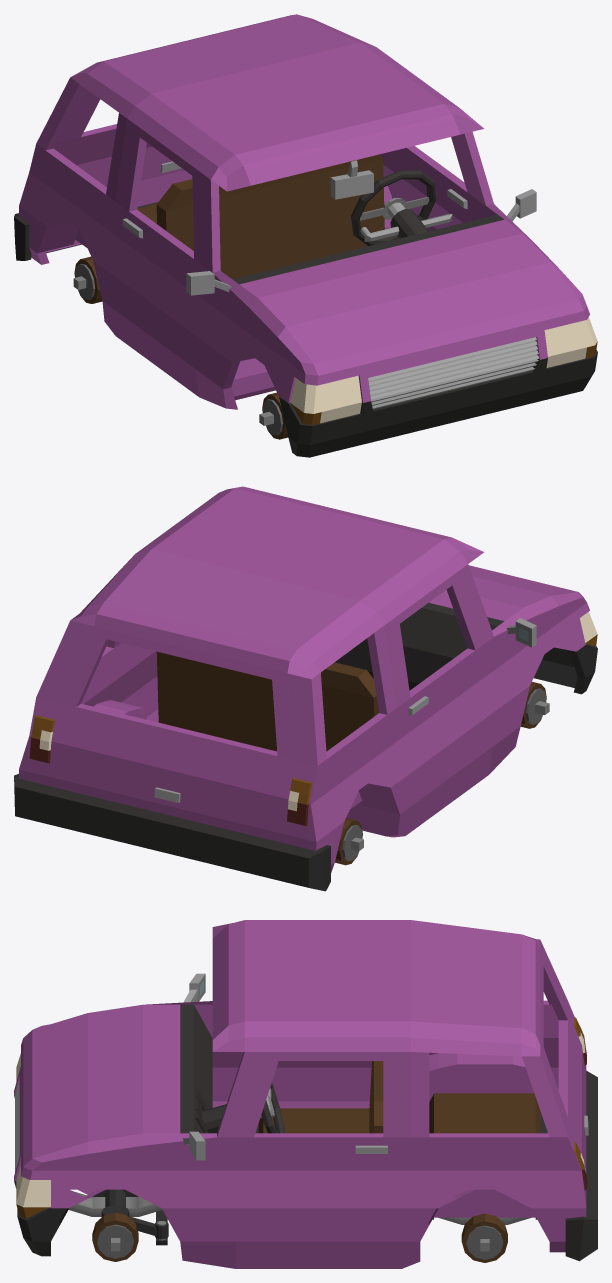
The model's file is trombone.obj.
3 renders of one model, top to bottom at view 1: azimuth 30°, elevation 25°; view 2: azimuth 150°, elevation 25°; view 3: azimuth 270°, elevation 25°, orthographic.
Visible parts, largest first — view 1: cube, hood, rightdoor, leftdoor, gate, headlights, steeringwheel, turnsignalright, axlerearright, cylinder, axlefrontright; view 2: cube, gate, rightdoor, leftdoor, axlerearright, turnsignalright, hood, brakelight, axlefrontright; view 3: cube, leftdoor, hood, gate, rightdoor, axlerearleft, steeringfrontleft, turnsignalleft, axlefrontleft, steeringwheel, cylinder.
Boxes of the visible parts, left/top/right/bottom form: cube: left=14, top=14, right=597, bottom=457; hood: left=297, top=238, right=535, bottom=363; rightdoor: left=111, top=122, right=203, bottom=365; leftdoor: left=393, top=135, right=476, bottom=231; gate: left=61, top=92, right=184, bottom=187; headlights: left=318, top=320, right=586, bottom=423; steeringwheel: left=351, top=170, right=436, bottom=245; turnsignalright: left=290, top=378, right=321, bottom=425; axlerearright: left=73, top=256, right=102, bottom=303; cylinder: left=390, top=209, right=428, bottom=238; axlefrontright: left=259, top=399, right=282, bottom=435; cube: left=14, top=486, right=597, bottom=891; gate: left=53, top=626, right=293, bottom=831; rightdoor: left=389, top=571, right=492, bottom=807; leftdoor: left=120, top=644, right=158, bottom=717; axlerearright: left=335, top=817, right=363, bottom=865; turnsignalright: left=290, top=611, right=597, bottom=804; hood: left=443, top=565, right=529, bottom=594; brakelight: left=29, top=737, right=308, bottom=826; axlefrontright: left=526, top=688, right=549, bottom=724; cube: left=14, top=920, right=597, bottom=1268; leftdoor: left=235, top=1052, right=401, bottom=1241; hood: left=23, top=1028, right=161, bottom=1142; gate: left=540, top=952, right=588, bottom=1174; rightdoor: left=235, top=1052, right=371, bottom=1101; axlerearleft: left=461, top=1213, right=507, bottom=1262; steeringfrontleft: left=92, top=1205, right=168, bottom=1261; turnsignalleft: left=16, top=1141, right=583, bottom=1218; axlefrontleft: left=97, top=1224, right=133, bottom=1258; steeringwheel: left=260, top=1083, right=285, bottom=1133; cylinder: left=202, top=1104, right=226, bottom=1133.
Bounding box in the file's own units: 2.69 × 1.73 × 3.95.
